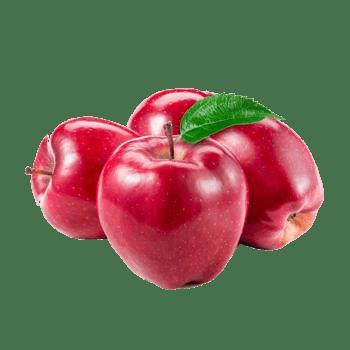apple: (98, 132, 244, 290), (202, 117, 325, 249), (28, 116, 139, 240)
